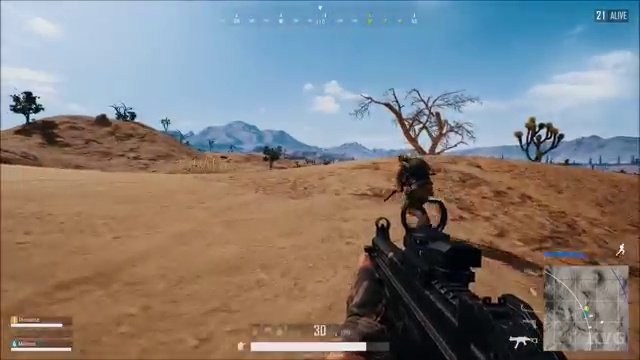Player: (364, 148, 465, 220)
